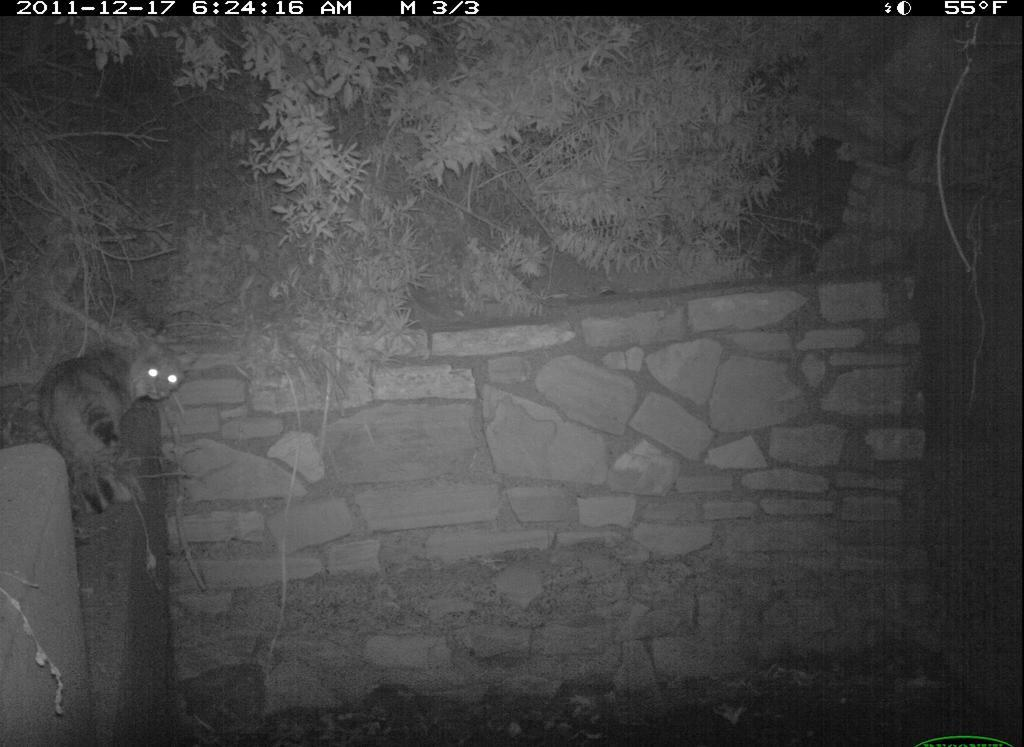bobcat: (25, 321, 209, 525)
